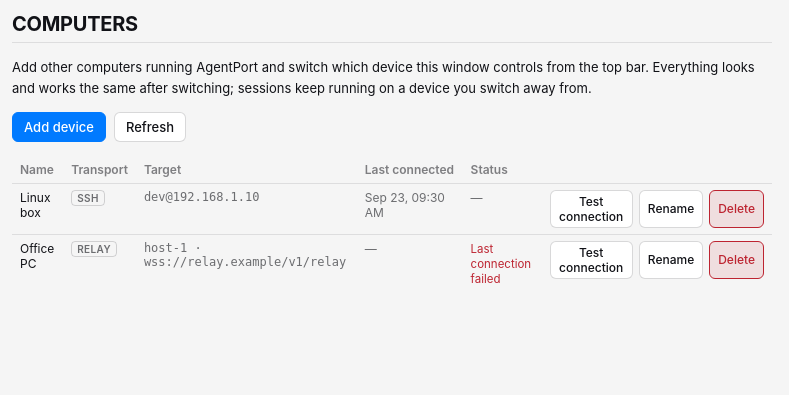
Scenario: delete requires confirmation and threads the credential cascade
Expected: the text "Linux box" is shown, [12,183,63,234]
Click the button "Delete" in the row of "Office PC" at (737, 260), box [709,241,764,279]
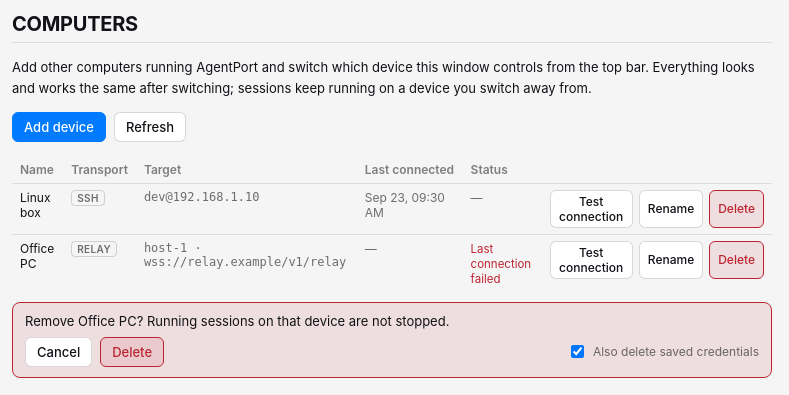
Expected: the text "Remove Office PC? Running sessions on that device are not stopped." is shown, [25,313,449,329]
Click the checkbox labelled "Also delete saved credentials" at (577, 352), box [571,345,584,358]
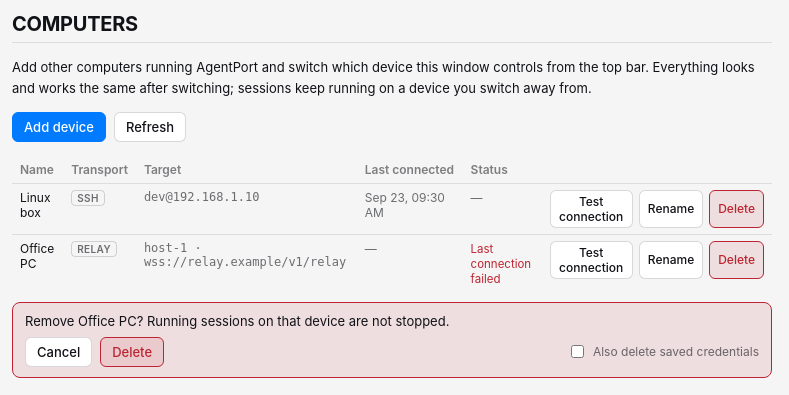
Click the button "Delete" in the row of "Also delete saved credentials" at (132, 352), box [100,337,164,367]
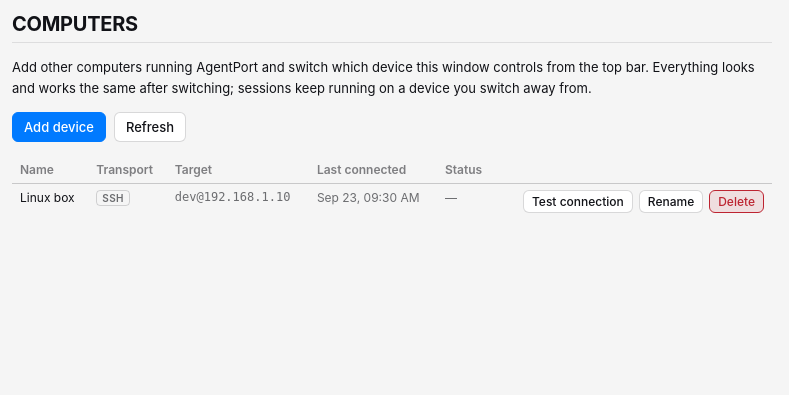
Expected: the text "Office PC" is gone
